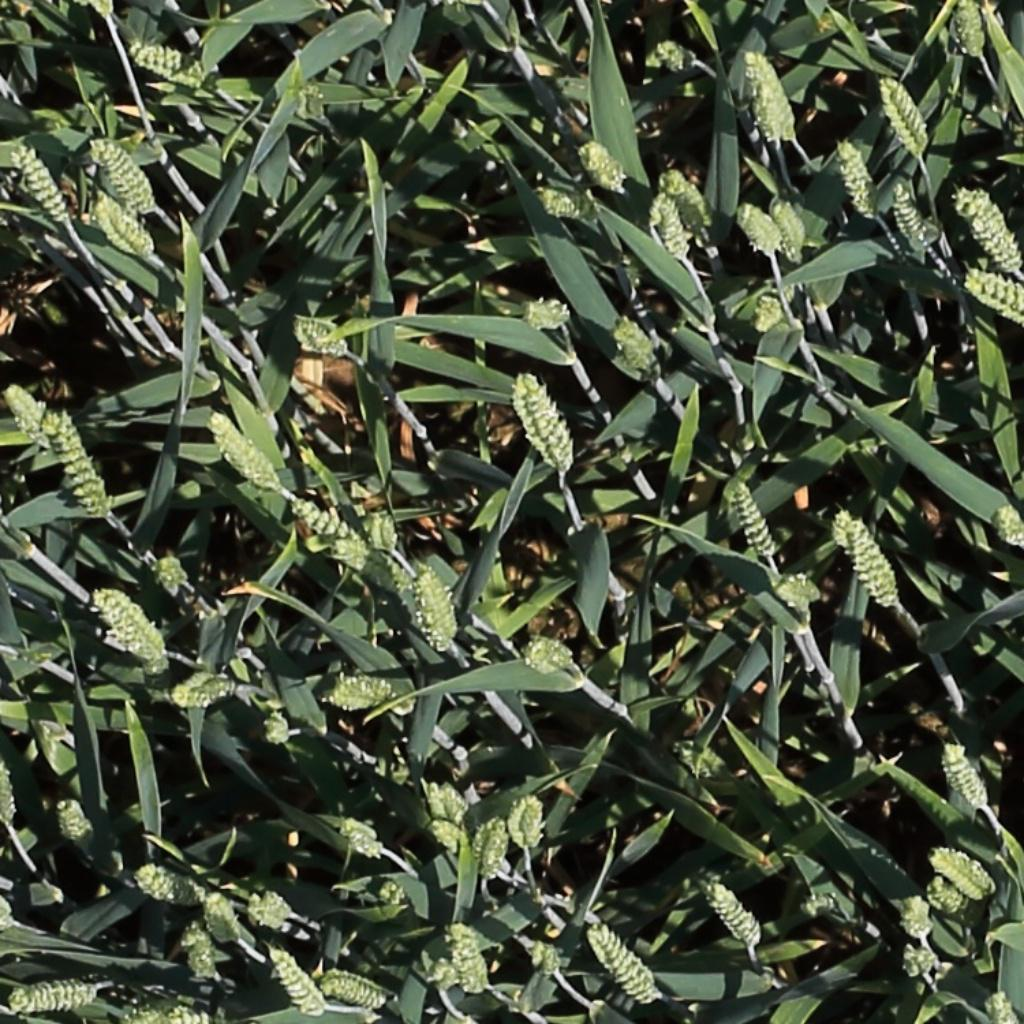0-0: (40, 410, 111, 521), (322, 523, 426, 592), (836, 507, 903, 614), (206, 408, 283, 495), (587, 918, 662, 1006), (8, 137, 73, 229), (517, 371, 574, 473), (744, 45, 802, 144), (90, 132, 158, 215), (91, 588, 166, 662), (263, 942, 333, 1019), (959, 193, 1024, 274), (701, 875, 767, 951), (879, 70, 933, 161), (90, 189, 157, 260), (324, 668, 414, 718), (940, 740, 995, 820), (835, 132, 883, 222), (731, 475, 780, 563), (285, 495, 363, 547), (415, 563, 460, 652), (447, 916, 494, 998), (672, 735, 738, 792), (662, 163, 716, 232), (0, 379, 54, 445), (126, 42, 207, 84), (611, 315, 664, 379), (735, 196, 789, 258), (890, 173, 932, 252), (931, 850, 993, 902), (653, 184, 693, 264), (965, 268, 1022, 323), (132, 869, 210, 909), (770, 191, 812, 258), (580, 137, 630, 192), (202, 887, 244, 951), (418, 815, 475, 861), (473, 816, 510, 886), (184, 917, 221, 985), (424, 778, 468, 832), (294, 315, 350, 357), (248, 886, 294, 934), (513, 790, 544, 860), (318, 976, 387, 1007), (894, 941, 946, 982), (954, 0, 988, 62), (793, 885, 844, 926), (55, 794, 92, 850), (337, 817, 385, 860), (525, 939, 568, 986), (169, 679, 240, 707), (927, 875, 966, 920), (368, 502, 398, 559), (992, 499, 1024, 552), (753, 288, 787, 337), (903, 892, 935, 944), (10, 989, 95, 1008), (539, 187, 591, 217), (259, 704, 294, 748), (653, 40, 699, 72), (527, 641, 577, 669), (373, 878, 410, 914), (985, 983, 1015, 1024), (0, 757, 15, 834), (167, 1007, 221, 1024), (524, 305, 572, 322), (0, 880, 13, 929), (0, 196, 16, 226)
